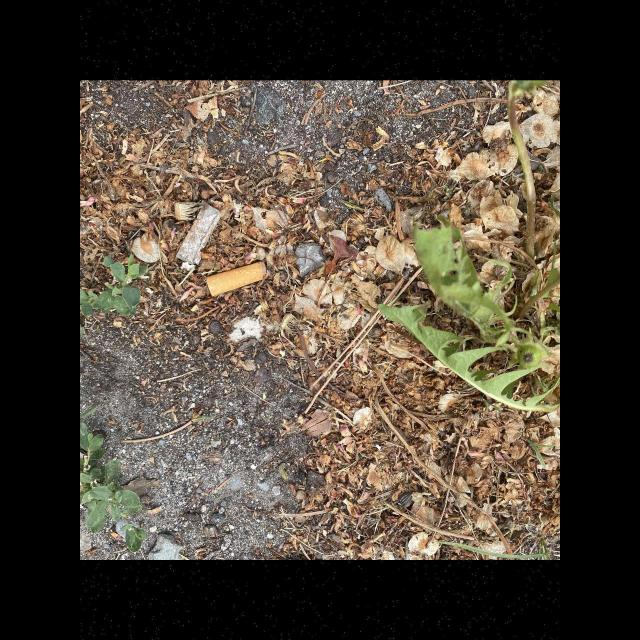cigarette: (206, 260, 268, 296)
